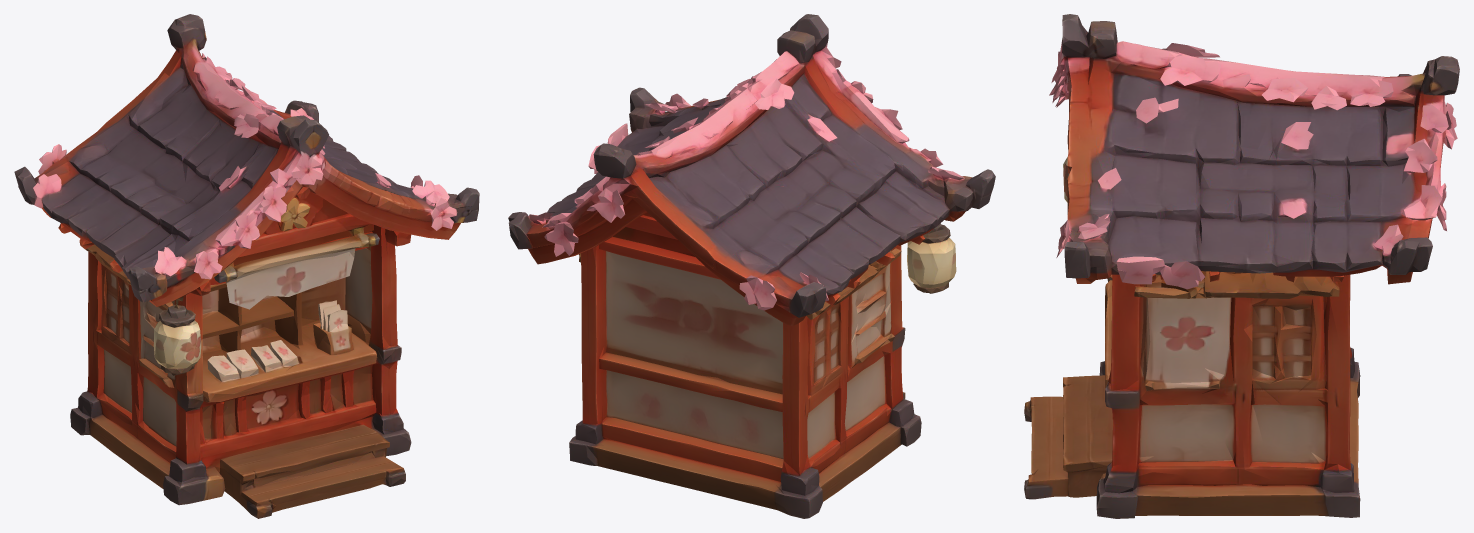
3 views of the same model, side by side, from view 1: azimuth 30°, elevation 25°; view 2: azimuth 150°, elevation 25°; view 3: azimuth 270°, elevation 25° (orthographic). The views are drawn at different scales.
Parts seen in each view (by area): view 1: Mesh; view 2: Mesh; view 3: Mesh.
Boxes of the visible parts, left/top/right/bottom form: Mesh: left=14, top=14, right=479, bottom=518; Mesh: left=508, top=14, right=995, bottom=518; Mesh: left=1024, top=14, right=1459, bottom=518.
Bounding box in the file's own units: 1.86 × 1.9 × 1.7.
1 material, 1 textured.
